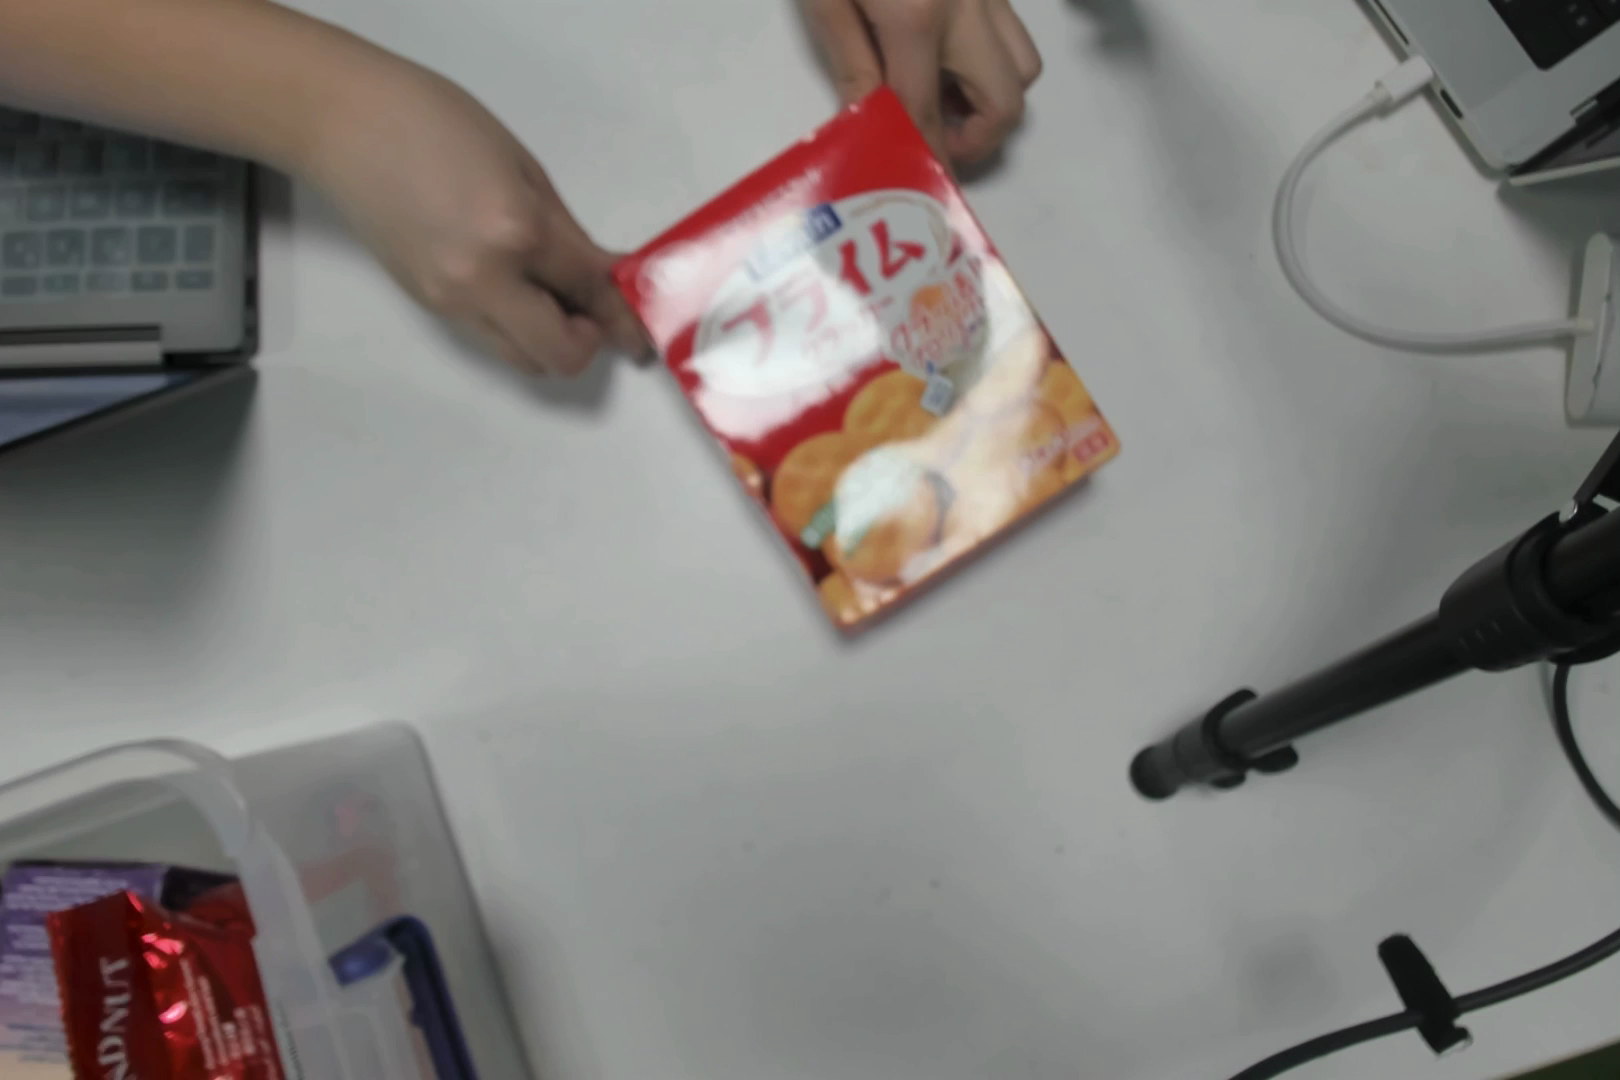c: (645, 166, 1087, 595)
